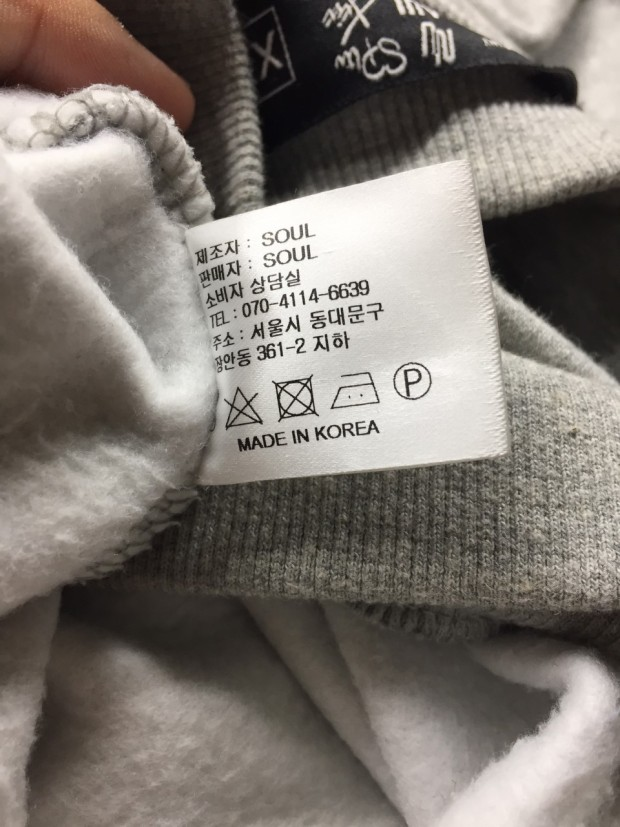ER_dry_clean_chemical: (390, 355, 437, 408)
ER_iron_medium_temp: (327, 366, 380, 413)
ER_no_bleach: (218, 384, 265, 433)
ER_no_tumble_dry: (273, 372, 319, 422)
